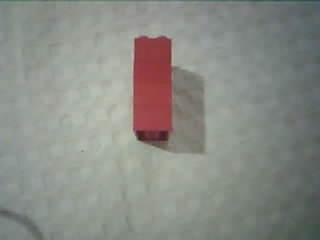lego: (130, 34, 173, 142)
